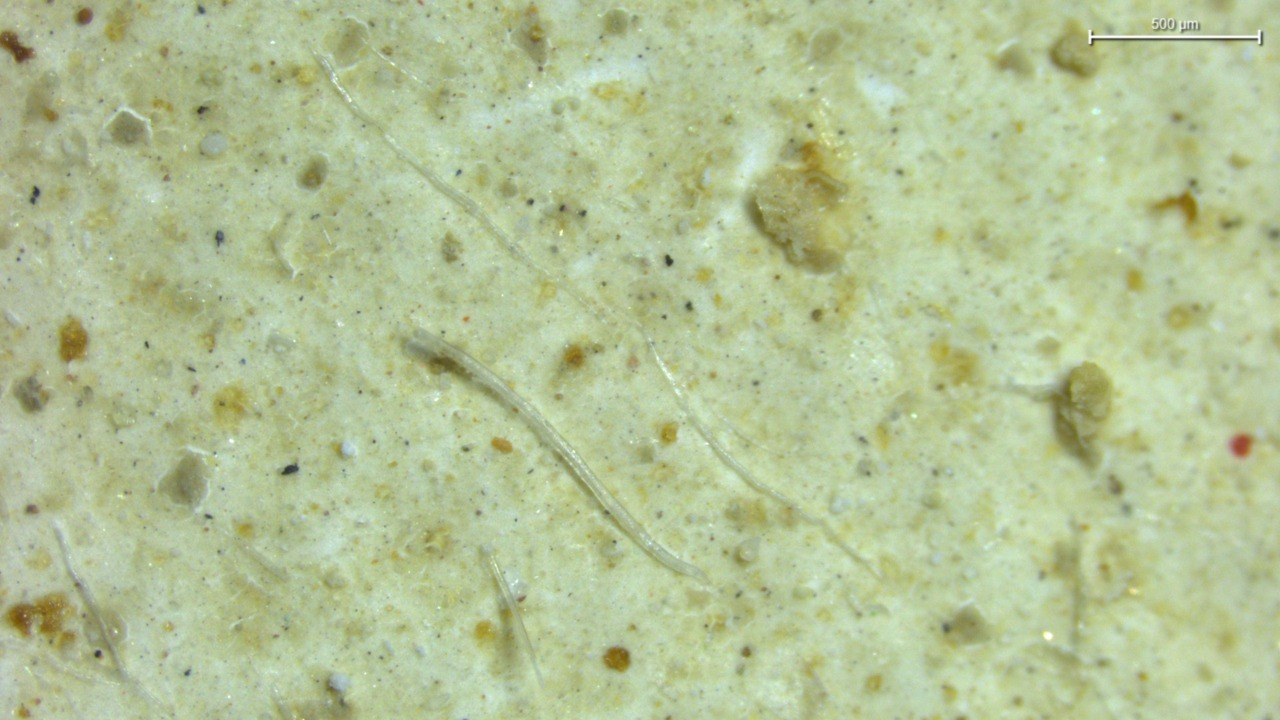microplastic_fragment: (752, 143, 848, 271), (1016, 361, 1112, 463)
